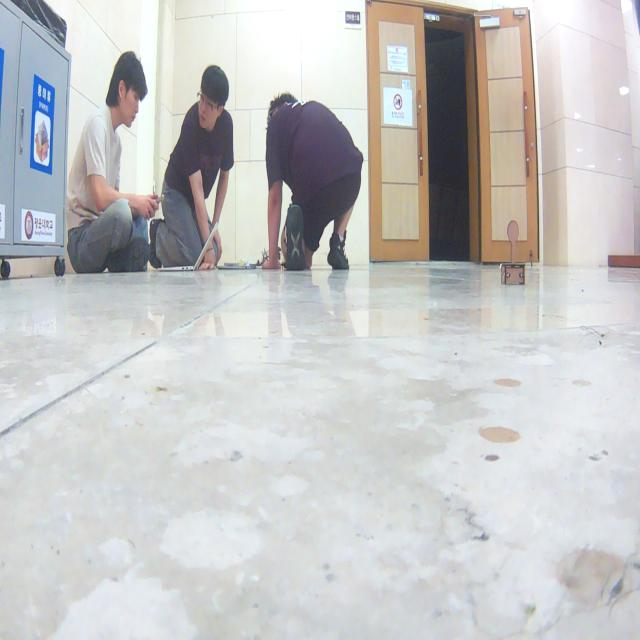target: (499, 219, 527, 285)
